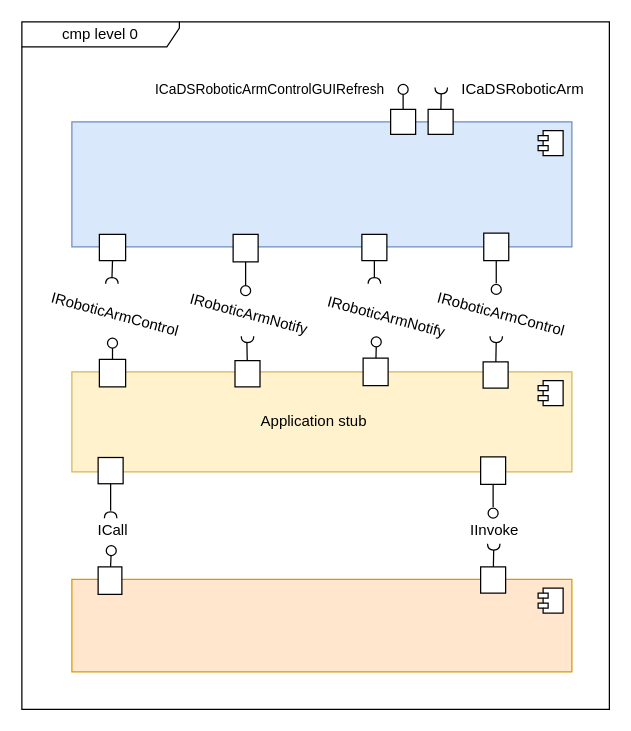
Image size: 631x731. Some labels were removed from this diagram. The box of each missing label's shape, as (x1, y1, x2, y2) in pixels:
Application: (71, 121, 572, 247)
Middleware: (71, 578, 572, 672)
